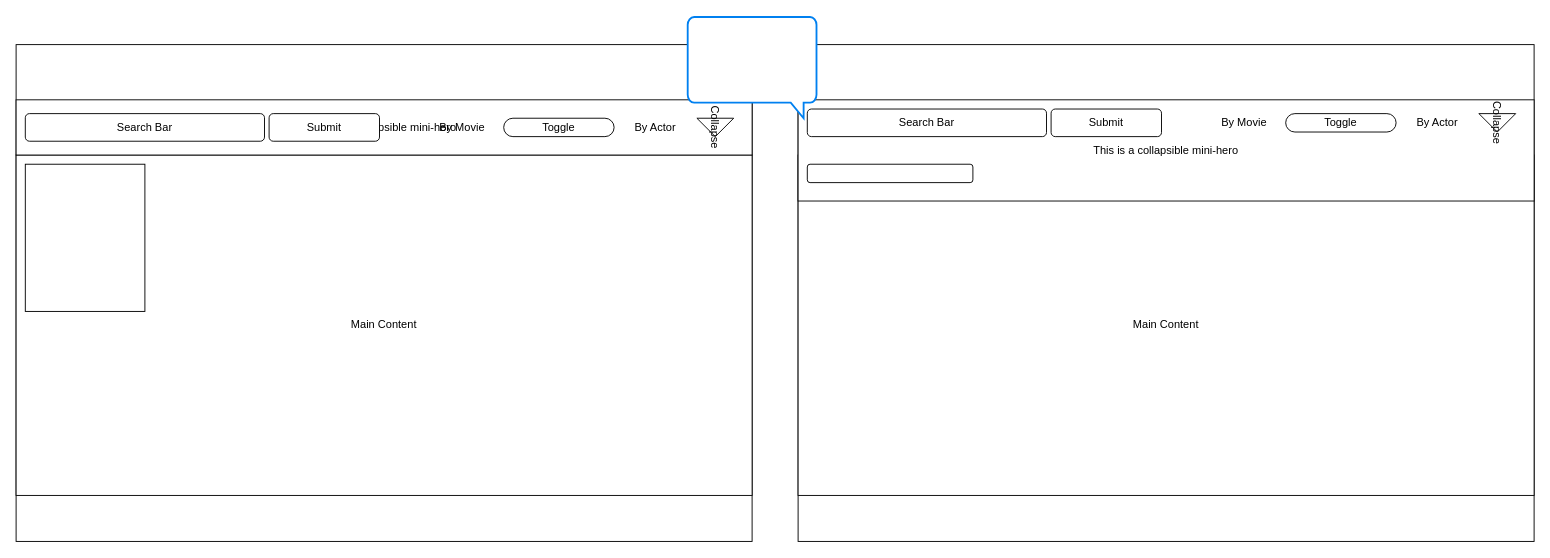
Image size: 1550x558. Some labels were removed from this diagram. The shapes that lost their labels are listed below. From the top down, each one's centre as x and y in pixels, then its label:
At point (751, 67): "Track state of collapse - Something to indicate more options".
At point (889, 173): "Genre Drop Down - Default All".
